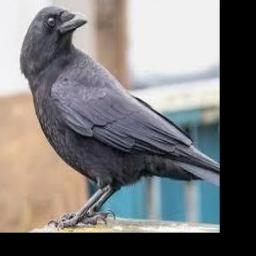Crow: (19, 7, 220, 229)
